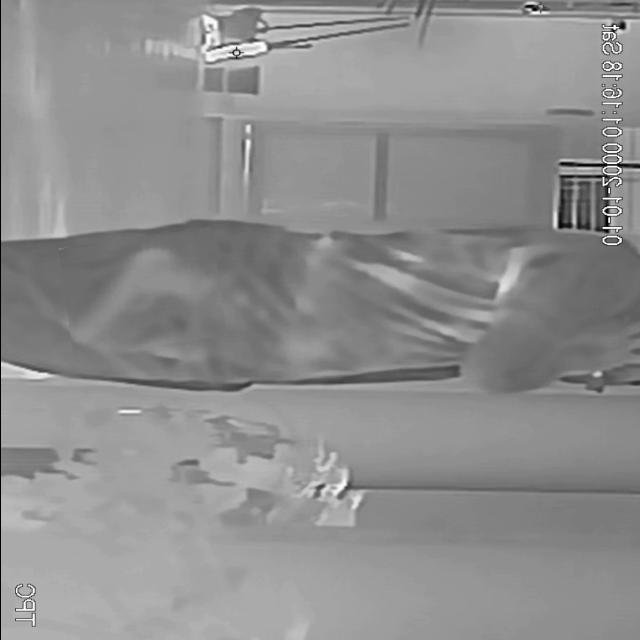Weapon: (61, 232, 222, 352)
